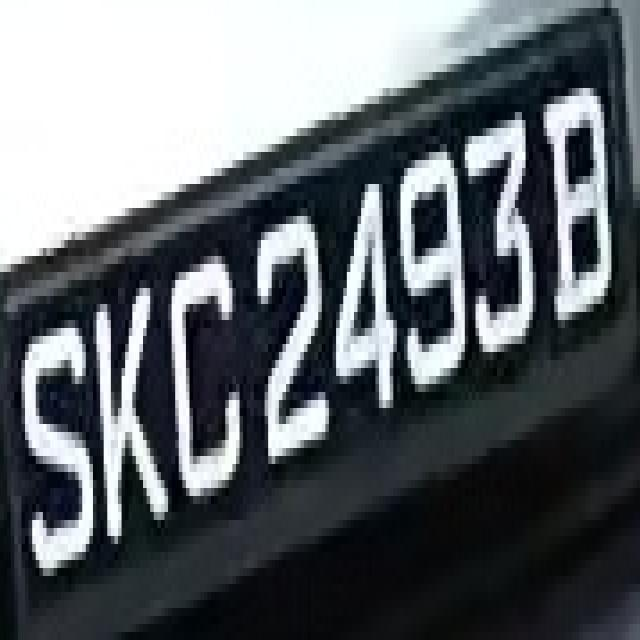2: (236, 176, 336, 496)
3: (454, 80, 533, 376)
4: (314, 120, 400, 432)
9: (386, 112, 479, 408)
B: (544, 80, 618, 360)
C: (168, 232, 250, 512)
K: (90, 248, 176, 568)
S: (7, 296, 104, 608)
